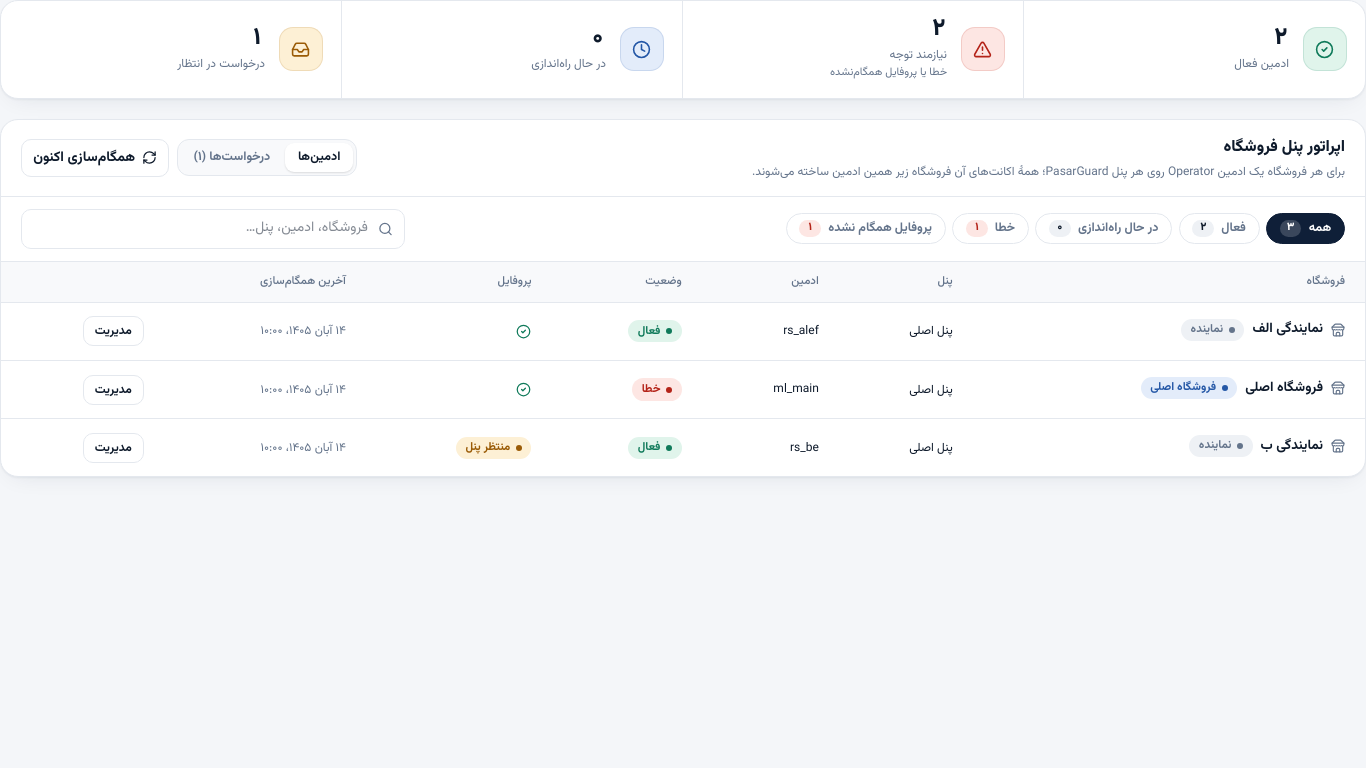
Test: admin: PasarGuard admins of every store › cannot reset the password of an admin that is not active on the panel
Check: the text "ml_main" is shown, box [773,380,819,398]
Click the button "مدیریت" in the row of "ml_main". click: (113, 390)
box: [82,374,144,404]
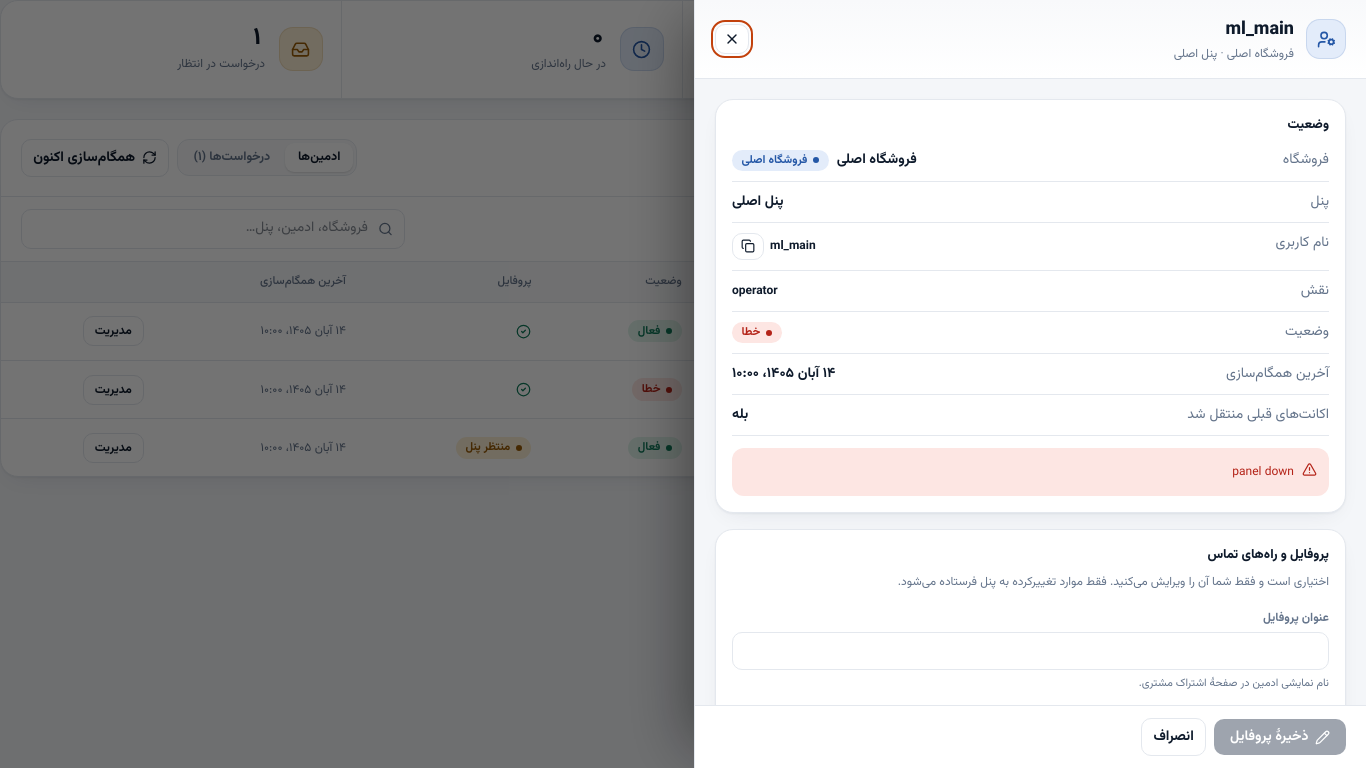
Check: the text "panel down" is shown, box [1232,460,1294,484]
